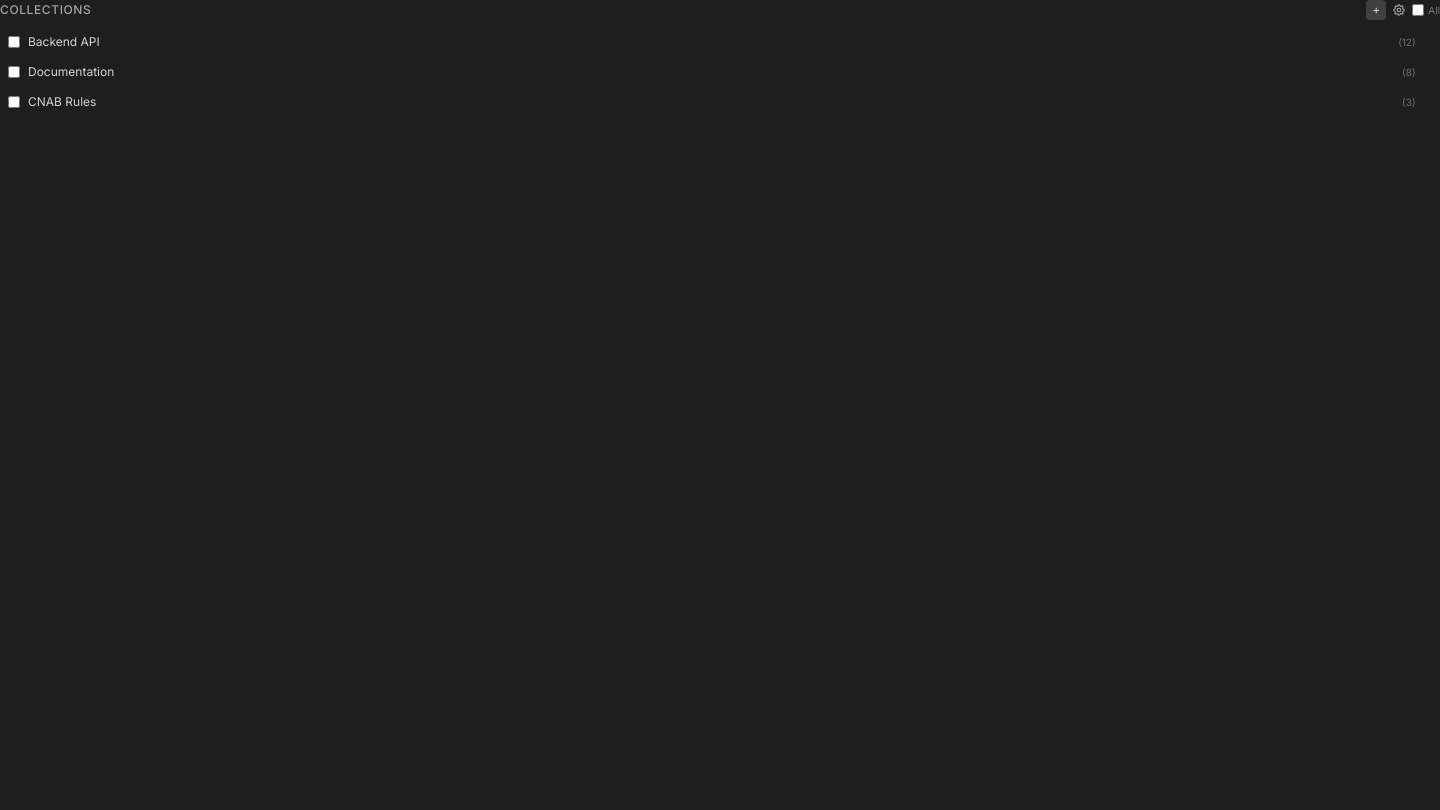
Test: CollectionList › Delete collection › should close delete dialog when Cancel is clicked
Right-click the list item with test id "collection-item-1" at (712, 42), box [8,34,1416,50]
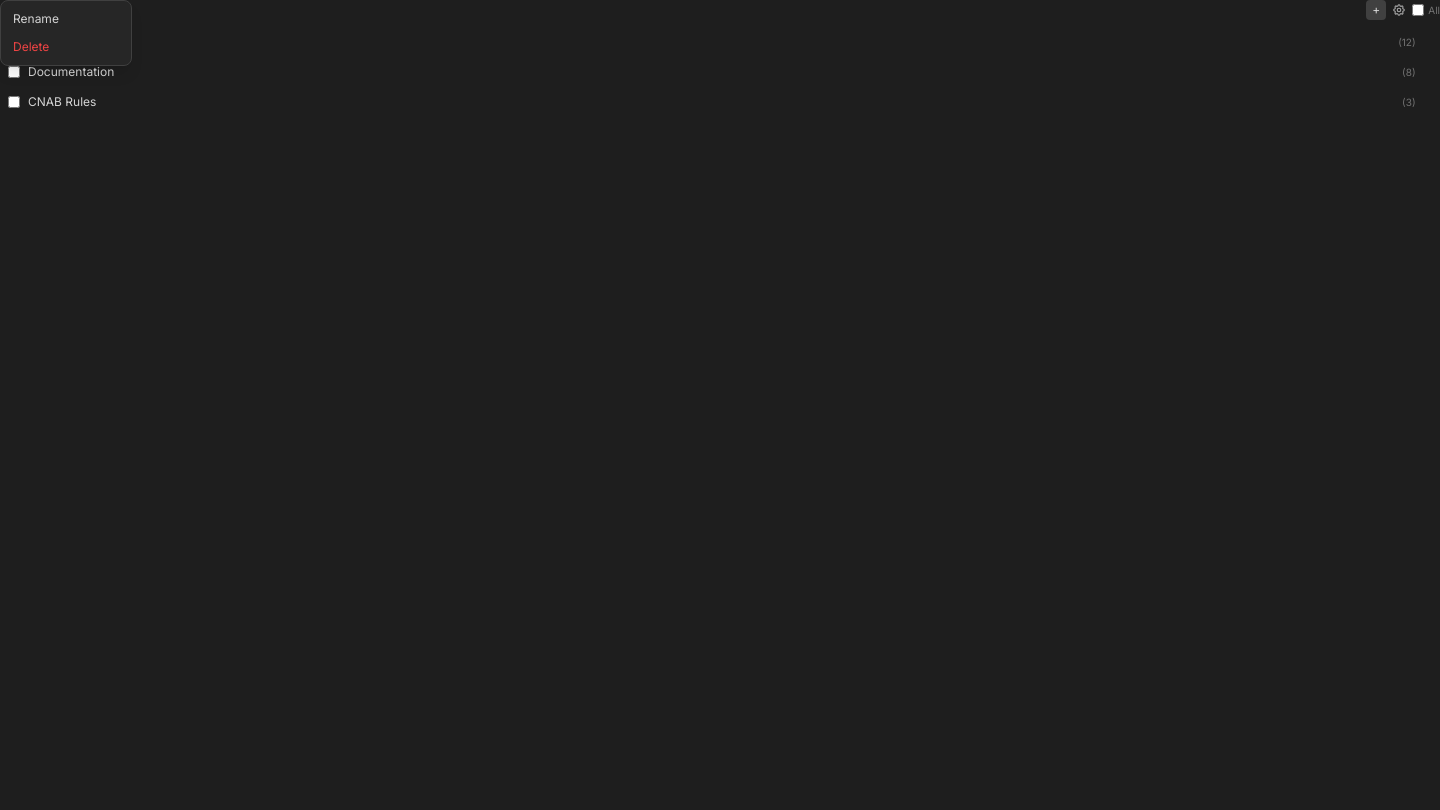
Click the menu item with test id "ctx-delete" at (66, 47), box [1,33,131,61]
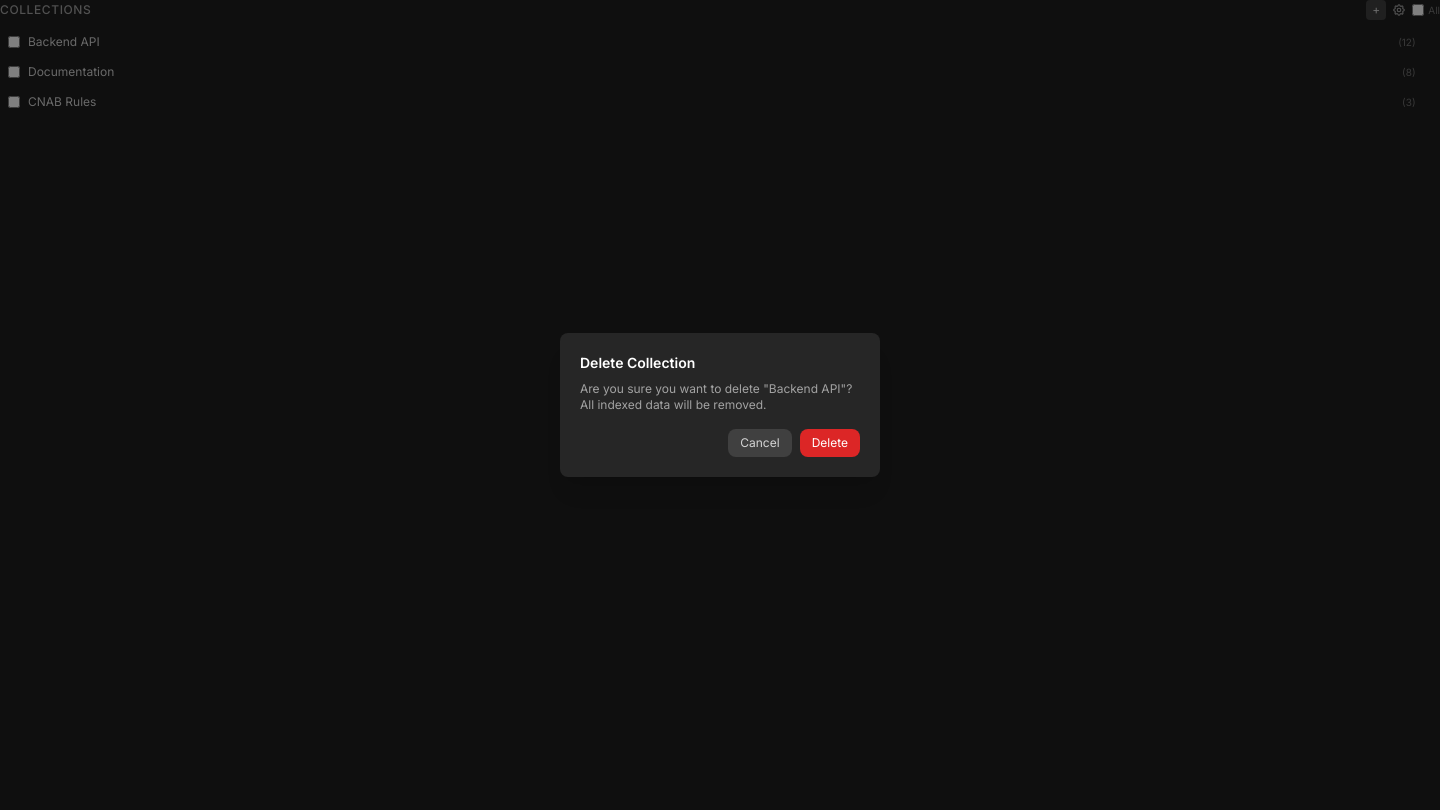
Check: the dialog with test id "delete-dialog" is shown
Click the button with test id "delete-cancel-btn" at (760, 443), box [728,429,792,457]
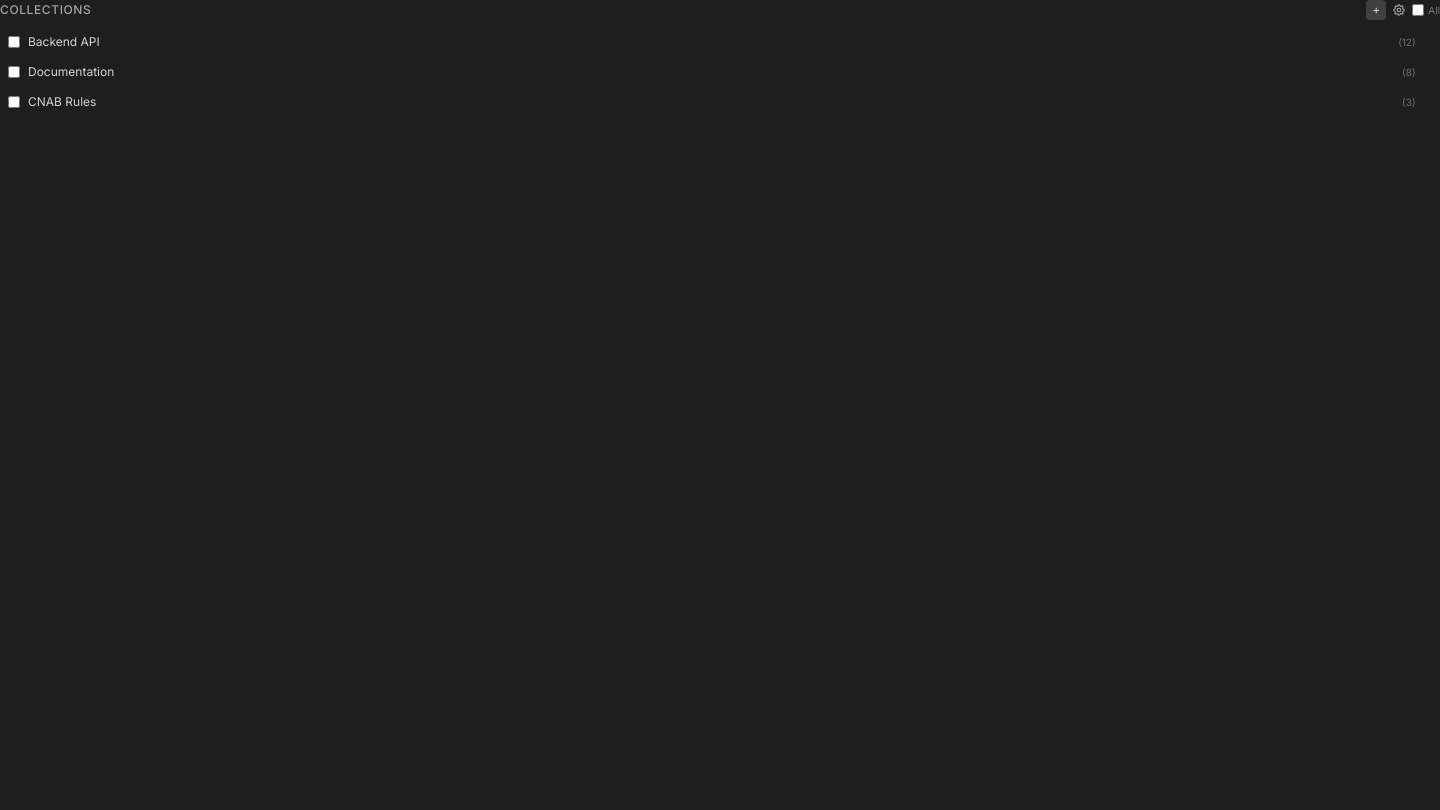
Check: the dialog with test id "delete-dialog" is gone
